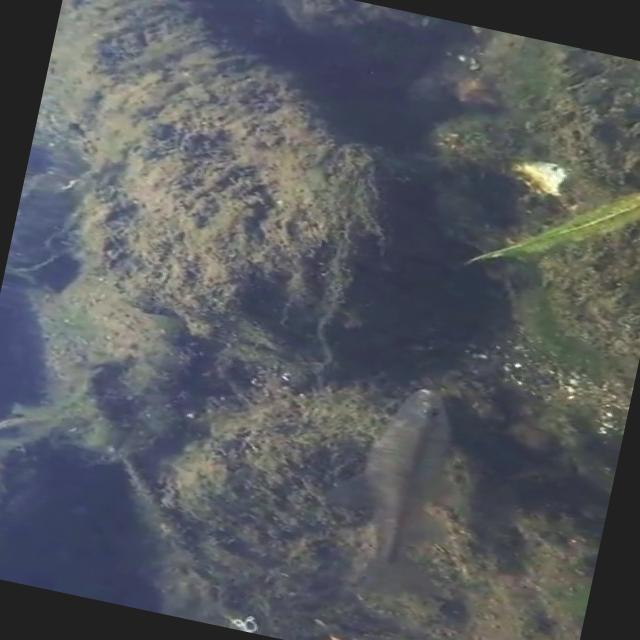Cakil Baligi: (306, 363, 480, 606)
